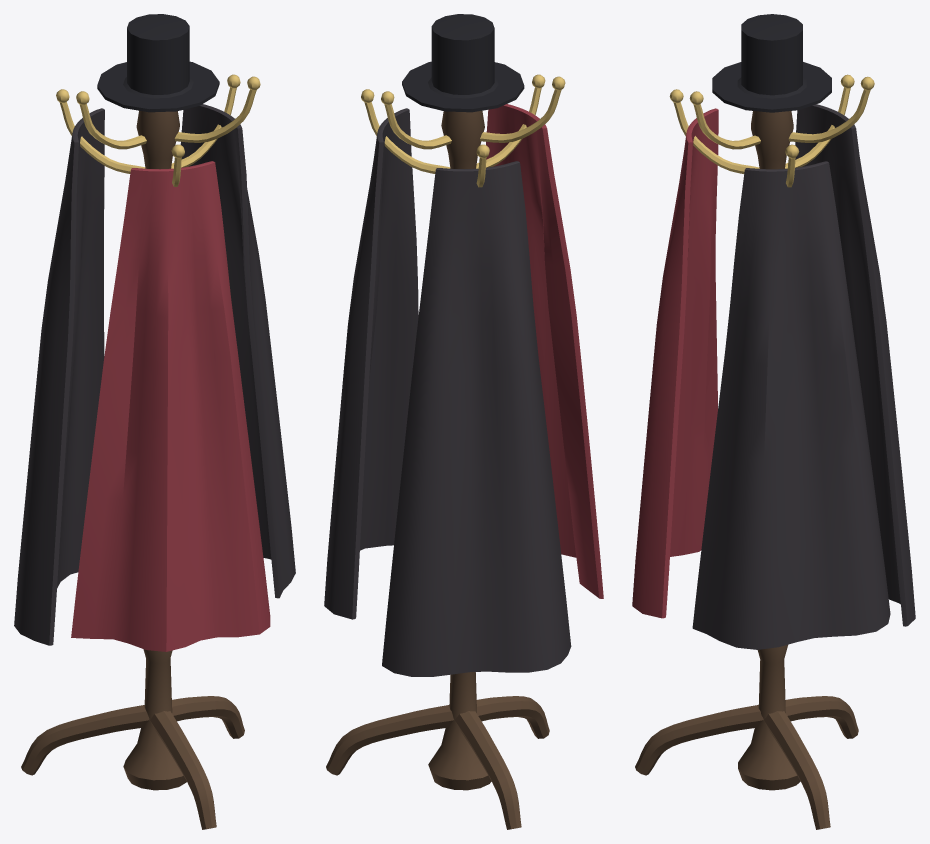
Rendered from gu_attaccapanni.fbx.
The picture shows the model from 3 angles, left to right: view 1: azimuth 30°, elevation 25°; view 2: azimuth 150°, elevation 25°; view 3: azimuth 270°, elevation 25°; orthographic projection.
Parts seen in each view (by area): view 1: gu_attaccapanni_tessuto, gu_attaccapanni_panno, gu_attaccapanni_legno, gu_attaccapanni_lacca, gu_attaccapanni_ottone; view 2: gu_attaccapanni_panno, gu_attaccapanni_tessuto, gu_attaccapanni_legno, gu_attaccapanni_lacca, gu_attaccapanni_ottone; view 3: gu_attaccapanni_panno, gu_attaccapanni_tessuto, gu_attaccapanni_legno, gu_attaccapanni_lacca, gu_attaccapanni_ottone.
Part boxes in pixels (bbox=[...]): gu_attaccapanni_tessuto: bbox=[71, 161, 270, 651]; gu_attaccapanni_panno: bbox=[14, 104, 295, 645]; gu_attaccapanni_legno: bbox=[21, 110, 244, 829]; gu_attaccapanni_lacca: bbox=[97, 14, 219, 112]; gu_attaccapanni_ottone: bbox=[56, 74, 260, 186]; gu_attaccapanni_panno: bbox=[324, 108, 571, 676]; gu_attaccapanni_tessuto: bbox=[486, 104, 603, 598]; gu_attaccapanni_legno: bbox=[326, 111, 549, 829]; gu_attaccapanni_lacca: bbox=[402, 14, 524, 112]; gu_attaccapanni_ottone: bbox=[361, 74, 565, 187]; gu_attaccapanni_panno: bbox=[692, 104, 915, 649]; gu_attaccapanni_tessuto: bbox=[632, 108, 718, 618]; gu_attaccapanni_legno: bbox=[635, 111, 858, 829]; gu_attaccapanni_lacca: bbox=[712, 14, 831, 112]; gu_attaccapanni_ottone: bbox=[669, 74, 874, 187].
Bounding box in the file's own units: 0.639 × 1.9 × 0.6476.
